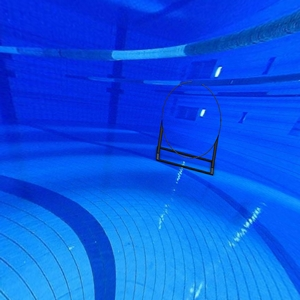circle: (155, 77, 222, 178)
